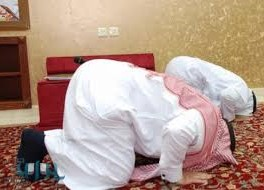sujud: (17, 59, 230, 187)
